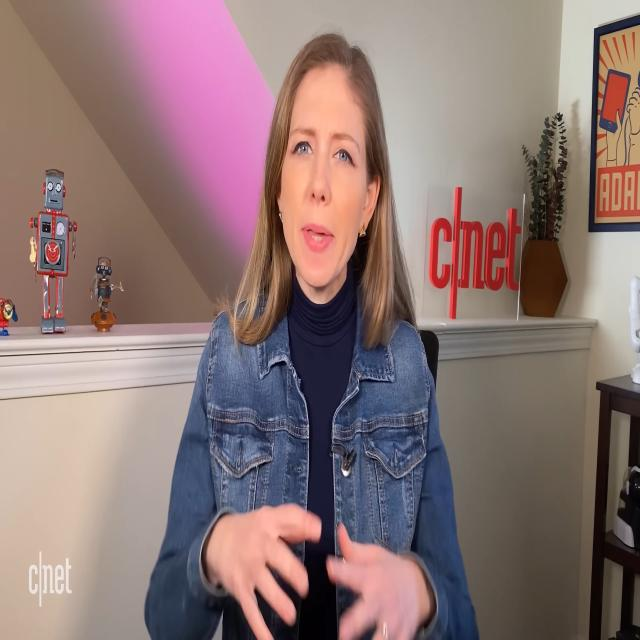dress: (130, 267, 481, 640)
